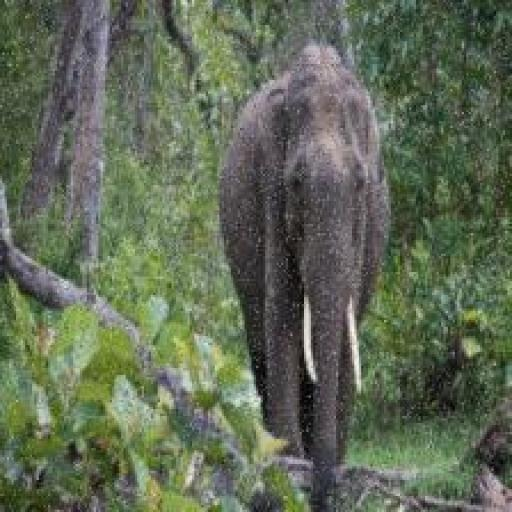Elephant: (217, 43, 390, 510)
